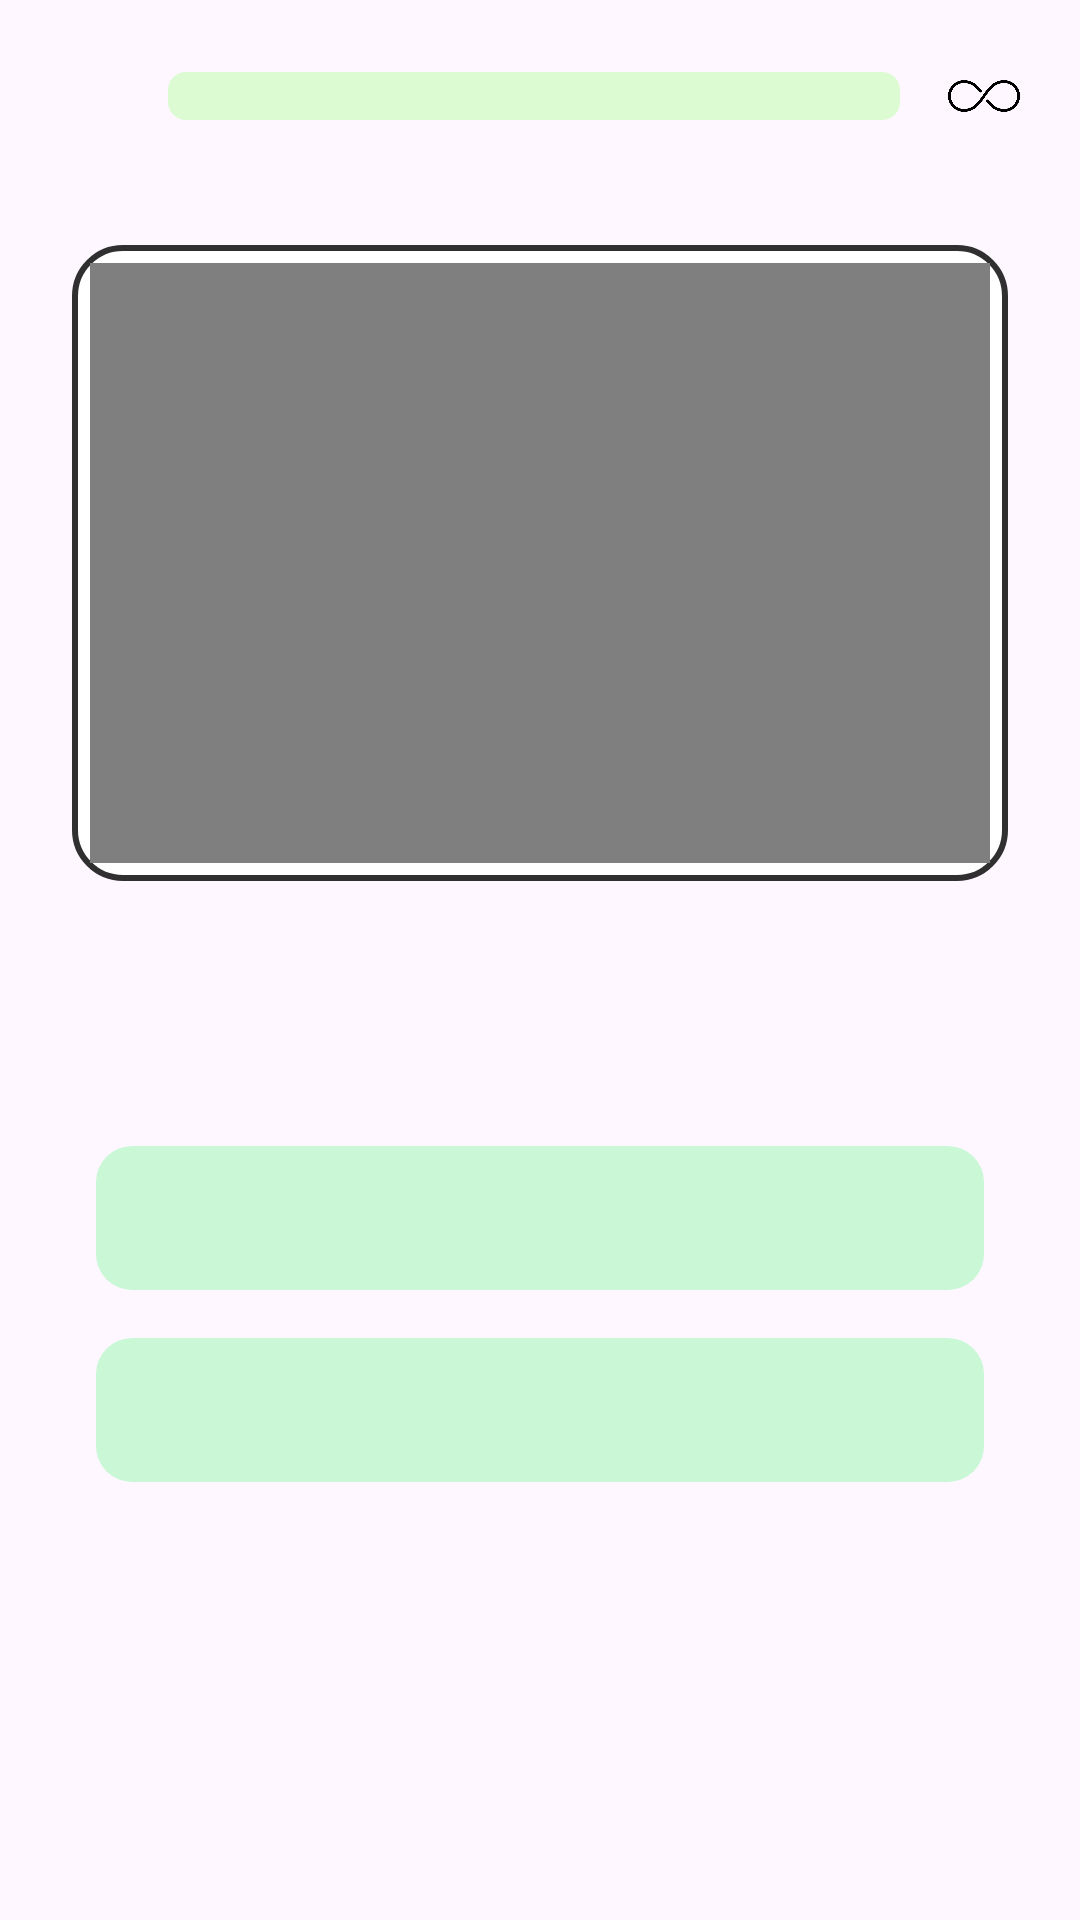

Where to tap for icons on this 1080 x 1920 app screen, as [x,y]:
infinity: [984,96]
